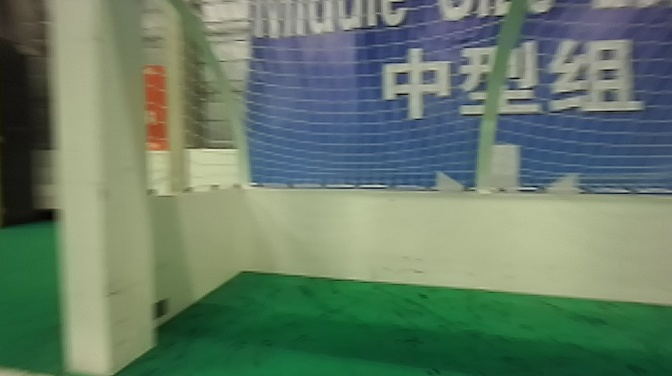goalpost: (37, 2, 160, 372)
